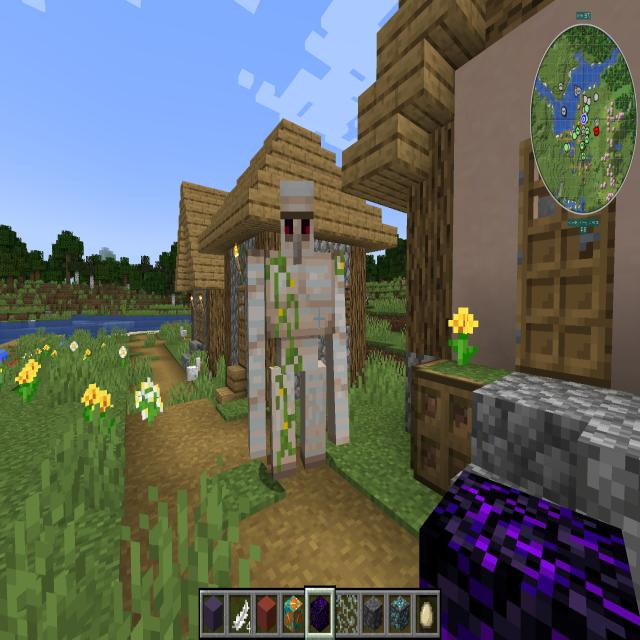chicken: (184, 354, 205, 389), (179, 323, 190, 345)
cow: (365, 290, 370, 306)
iron golem: (242, 169, 356, 492)
pig: (401, 278, 407, 286)
